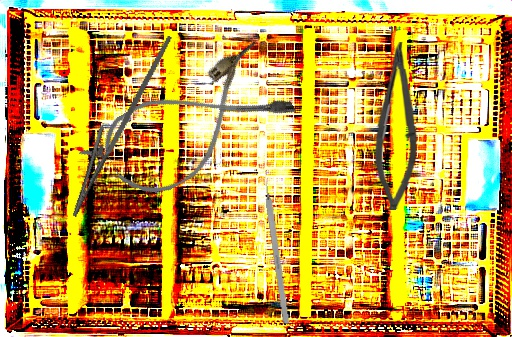Cannula: (93, 38, 299, 209)
Hook Surgical: (261, 168, 290, 325)
Micro Scissor: (372, 42, 419, 210)
Needle Holder: (56, 20, 174, 227)
